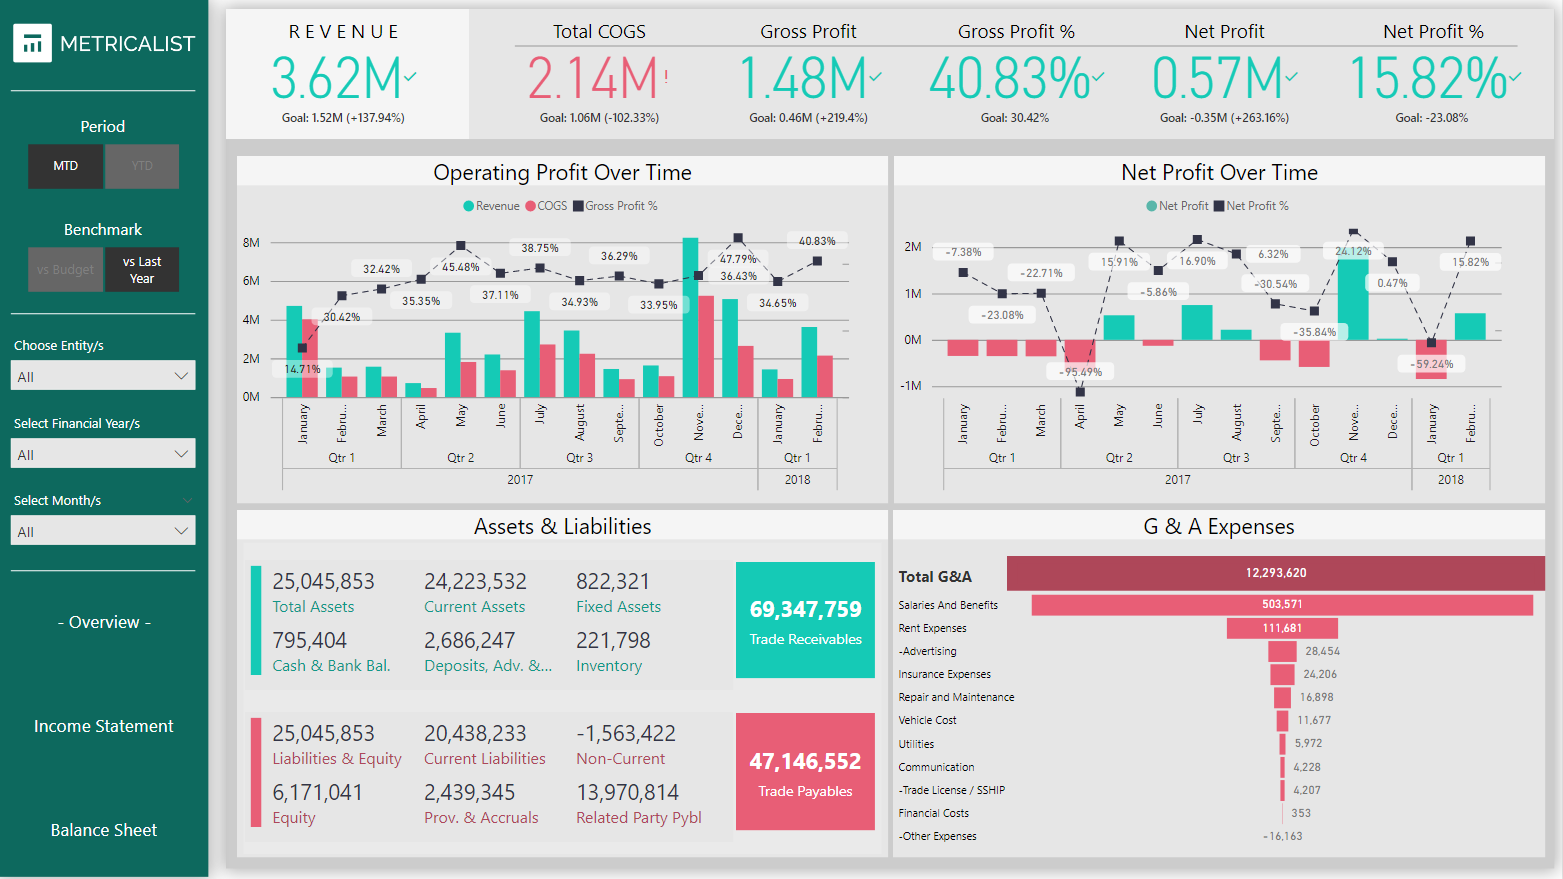

This screenshot's page, from the dashboard's own definition file:
{"tool":"powerbi","page":{"name":"Financial Overview","canvas":[1440,810],"ordinal":0},"visuals":[{"type":"shape","box":[208,8,1224,792],"z":0},{"type":"shape","box":[0,0,192,808],"z":1000},{"type":"shape","box":[208,8,224,120],"z":2000},{"type":"shape","box":[432,8,1000,120],"z":3000},{"type":"textbox","title":"G & A Expenses","box":[823,470,601,320],"z":11000},{"type":"funnel","fields":{"Category":["Account Groups.Group"],"Y":["Period.Amount"]},"box":[823,540.5,600.3,247.2],"z":12000},{"type":"funnel","fields":{"Y":["Sum(Income Statement.Amount)"]},"box":[928,512,496,32],"z":13000},{"type":"basicShape","title":"Assets & Liabilities","box":[218,470.1,600,320],"z":14000},{"type":"card","title":"A/P","fields":{"Values":["Sum(Balance Sheet.Amount)"]},"box":[678.3,657.2,127.6,108.4],"z":15000},{"type":"multiRowCard","title":"Other Details","fields":{"Values":["Balance Sheet.Liabilities & Equity","Balance Sheet.Current Liabilities","Balance Sheet.Non-Current Liabilities","Balance Sheet.Shareholder's Equity","Balance Sheet.Provisions & Accruals","Balance Sheet.Related Party Pybl"]},"box":[225.4,656.2,449.9,119.9],"z":16000},{"type":"card","title":"A/R","fields":{"Values":["Sum(Balance Sheet.Amount)"]},"box":[678.3,518.1,127.6,107.4],"z":17000},{"type":"multiRowCard","title":"Other Details","fields":{"Values":["Balance Sheet.Total Assets","Balance Sheet.Current Assets","Balance Sheet.Fixed Assets","Balance Sheet.Cash & Bank Balances","Balance Sheet.Deposits, Adv. & Prepayments","Balance Sheet.Inventory"]},"box":[225.4,516.1,449.9,119.9],"z":18000},{"type":"lineClusteredColumnComboChart","title":"Net Profit Over Time","fields":{"Category":["Date Table.Date.Variation.Date Hierarchy.Year","Date Table.Date.Variation.Date Hierarchy.Quarter","Date Table.Date.Variation.Date Hierarchy.Month"],"Y2":["Income Statement.Net Profit %"],"Y":["Income Statement.Net Profit"]},"box":[824,144,600,320],"z":19000},{"type":"lineClusteredColumnComboChart","title":"Operating Profit Over Time","fields":{"Category":["Date Table.Date.Variation.Date Hierarchy.Year","Date Table.Date.Variation.Date Hierarchy.Quarter","Date Table.Date.Variation.Date Hierarchy.Month"],"Y2":["Income Statement.Gross Profit %"],"Y":["Income Statement.Revenue","Income Statement.COGS"]},"box":[218,143.6,600,320],"z":20000},{"type":"basicShape","box":[464.6,30,944,24],"z":21000},{"type":"kpi","title":"Net Profit %","fields":{"TrendLine":["Date Table.Date"],"Goal":["Comparison.Target Net Profit %"],"Indicator":["Income Statement.Net Profit %"]},"box":[1232.6,16,176,112],"z":22000},{"type":"kpi","title":"Net Profit","fields":{"TrendLine":["Date Table.Date"],"Goal":["Comparison.Target Net Profit"],"Indicator":["Income Statement.Net Profit"]},"box":[1040.6,16,176,112],"z":23000},{"type":"kpi","title":"Gross Profit %","fields":{"TrendLine":["Date Table.Date"],"Goal":["Comparison.Target Gross Profit %"],"Indicator":["Income Statement.Gross Profit %"]},"box":[848.6,16,176,112],"z":24000},{"type":"kpi","title":"Gross Profit","fields":{"TrendLine":["Date Table.Date"],"Goal":["Comparison.Target Gross Profit"],"Indicator":["Income Statement.Gross Profit"]},"box":[656.6,16,176,112],"z":25000},{"type":"kpi","title":"Total COGS","fields":{"TrendLine":["Date Table.Date"],"Goal":["Comparison.Target COGS"],"Indicator":["Income Statement.COGS"]},"box":[464.6,16,176,112],"z":26000},{"type":"kpi","title":"R E V E N U E","fields":{"TrendLine":["Date Table.Date"],"Goal":["Comparison.Target Revenue"],"Indicator":["Income Statement.Revenue"]},"box":[208,16,216,112],"z":27000},{"type":"actionButton","box":[0,744,192,40],"z":29000},{"type":"actionButton","box":[0,648,192,40],"z":31000},{"type":"actionButton","box":[0,552,192,40],"z":34000},{"type":"basicShape","box":[0,517.1,190,16.3],"z":35000},{"type":"slicer","fields":{"Values":["Calender-Date.Month"]},"box":[0,447.1,190,79.6],"z":36000},{"type":"slicer","fields":{"Values":["Calender-Date.Year"]},"box":[0,375.7,190,78.8],"z":37000},{"type":"slicer","fields":{"Values":["Entity.Entity"]},"box":[0,303.9,190,79.7],"z":38000},{"type":"basicShape","box":[0,280.2,190,15.8],"z":39000},{"type":"slicer","title":"Benchmark","fields":{"Values":["Benchmark.Benchmark"]},"box":[0,201.1,189.3,74.6],"z":40000},{"type":"slicer","title":"Period","fields":{"Values":["Period.Period"]},"box":[0,105.9,189.3,74.6],"z":41000},{"type":"basicShape","box":[0,74.9,190.5,16.5],"z":42000},{"type":"image","box":[0,16,192,48],"z":45000}]}

Visuals, with their boxes on the page's 1440x810 design canvas (x1, y1, x2, y2). These are canvas units, not pixel positions in the 1563x879 screenshot, which may show the page scaled, cropped or inside an application window:
shape: x1=208 y1=8 x2=1432 y2=800
shape: x1=0 y1=0 x2=192 y2=808
shape: x1=208 y1=8 x2=432 y2=128
shape: x1=432 y1=8 x2=1432 y2=128
"G & A Expenses" textbox: x1=823 y1=470 x2=1424 y2=790
funnel - Account Groups.Group x Period.Amount: x1=823 y1=540 x2=1423 y2=788
funnel - Sum(Income Statement.Amount): x1=928 y1=512 x2=1424 y2=544
"Assets & Liabilities" basicShape: x1=218 y1=470 x2=818 y2=790
"A/P" card: x1=678 y1=657 x2=806 y2=766
"Other Details" multiRowCard: x1=225 y1=656 x2=675 y2=776
"A/R" card: x1=678 y1=518 x2=806 y2=626
"Other Details" multiRowCard: x1=225 y1=516 x2=675 y2=636
"Net Profit Over Time" lineClusteredColumnComboChart: x1=824 y1=144 x2=1424 y2=464
"Operating Profit Over Time" lineClusteredColumnComboChart: x1=218 y1=144 x2=818 y2=464
basicShape: x1=465 y1=30 x2=1409 y2=54
"Net Profit %" kpi: x1=1233 y1=16 x2=1409 y2=128
"Net Profit" kpi: x1=1041 y1=16 x2=1217 y2=128
"Gross Profit %" kpi: x1=849 y1=16 x2=1025 y2=128
"Gross Profit" kpi: x1=657 y1=16 x2=833 y2=128
"Total COGS" kpi: x1=465 y1=16 x2=641 y2=128
"R E V E N U E" kpi: x1=208 y1=16 x2=424 y2=128
actionButton: x1=0 y1=744 x2=192 y2=784
actionButton: x1=0 y1=648 x2=192 y2=688
actionButton: x1=0 y1=552 x2=192 y2=592
basicShape: x1=0 y1=517 x2=190 y2=533
slicer - Calender-Date.Month: x1=0 y1=447 x2=190 y2=527
slicer - Calender-Date.Year: x1=0 y1=376 x2=190 y2=454
slicer - Entity.Entity: x1=0 y1=304 x2=190 y2=384
basicShape: x1=0 y1=280 x2=190 y2=296
"Benchmark" slicer: x1=0 y1=201 x2=189 y2=276
"Period" slicer: x1=0 y1=106 x2=189 y2=180
basicShape: x1=0 y1=75 x2=190 y2=91
image: x1=0 y1=16 x2=192 y2=64
